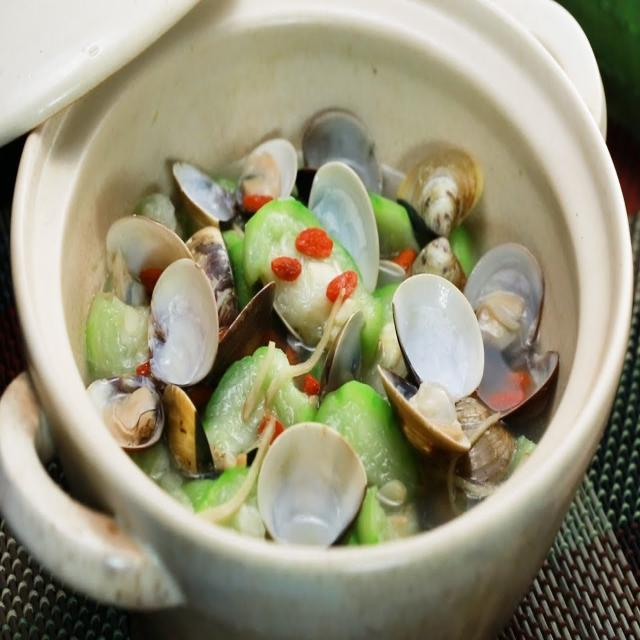Wet: (117, 126, 534, 542)
